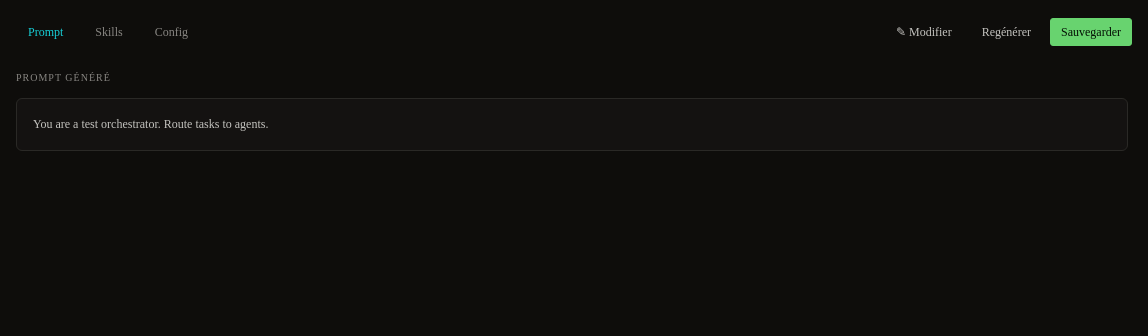
OrchestratorResultPanel › clicking Skills tab shows skill_ids
Click the button "Skills". click: (109, 32)
box: top-left (79, 12), bottom-right (139, 52)
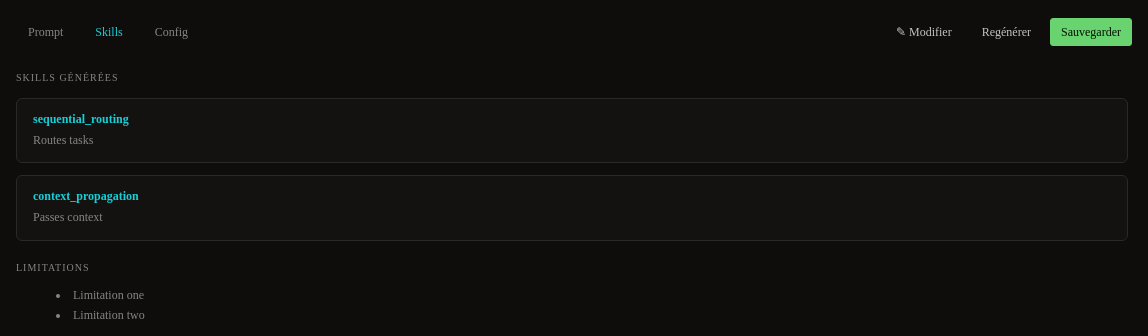
Check: the text "sequential_routing" is shown, box top-left (33, 112), bottom-right (129, 126)
Check: the text "context_propagation" is shown, box top-left (33, 189), bottom-right (139, 203)
